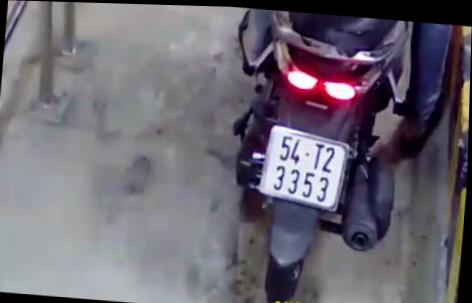LP: (266, 122, 351, 212)
